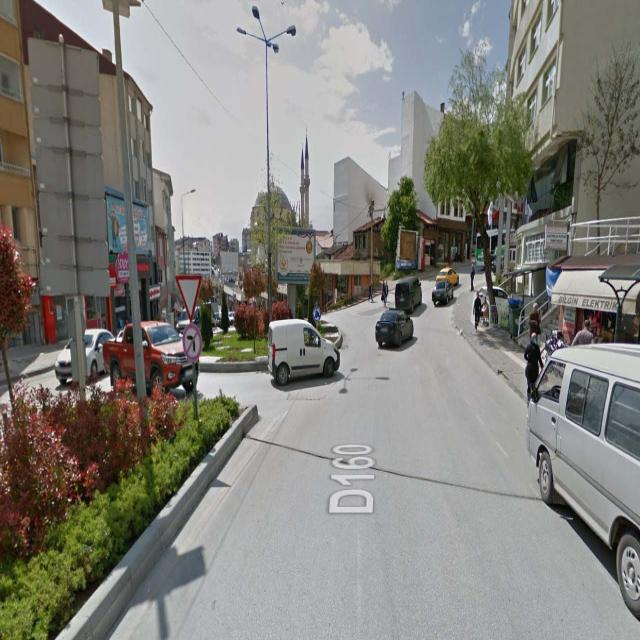soladonulmez: (183, 324, 201, 359)
